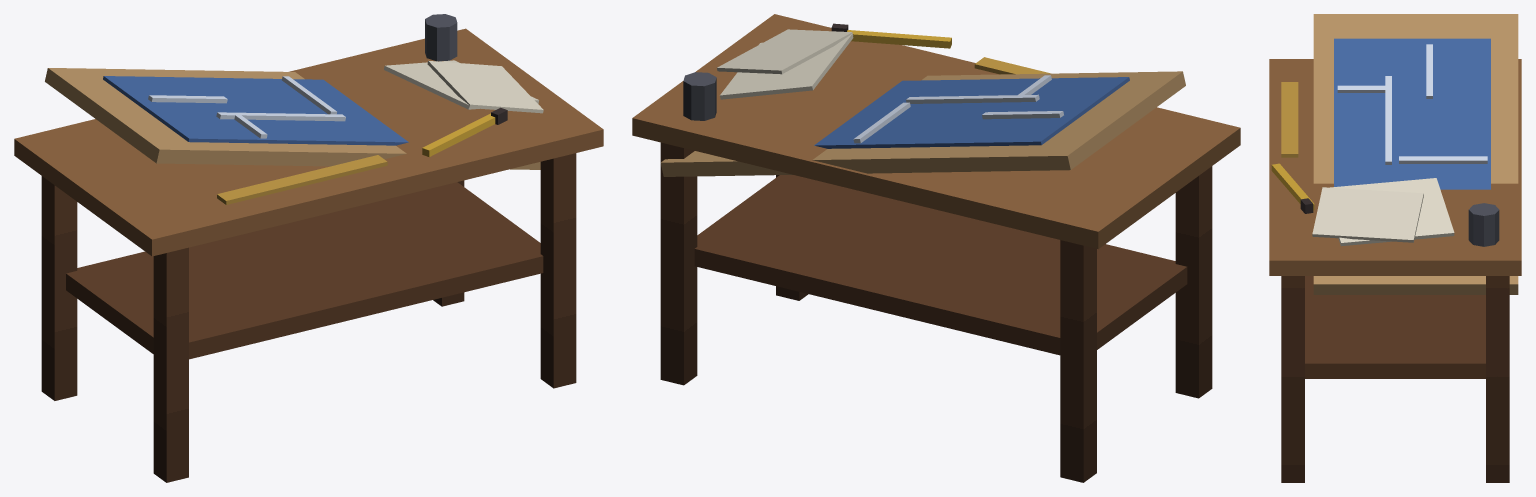
Rendered from research_table.glb.
3 views of the same model, side by side, from view 1: azimuth 30°, elevation 25°; view 2: azimuth 150°, elevation 25°; view 3: azimuth 270°, elevation 25° (orthographic). The views are drawn at different scales.
Size of the model in its own units: 1.4 by 0.9412 by 0.74.
1 material, 1 textured.
